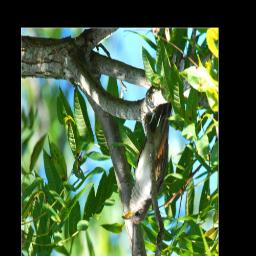Cuckoo: (122, 103, 172, 225)
